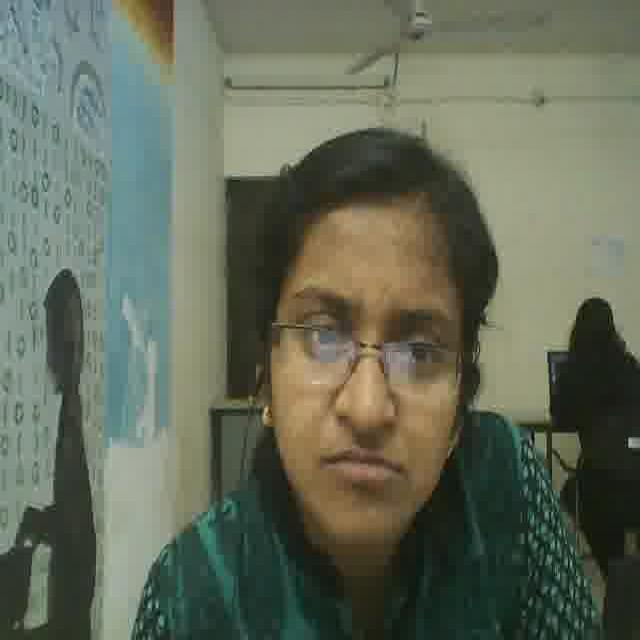Boredom: (273, 207, 461, 548)
